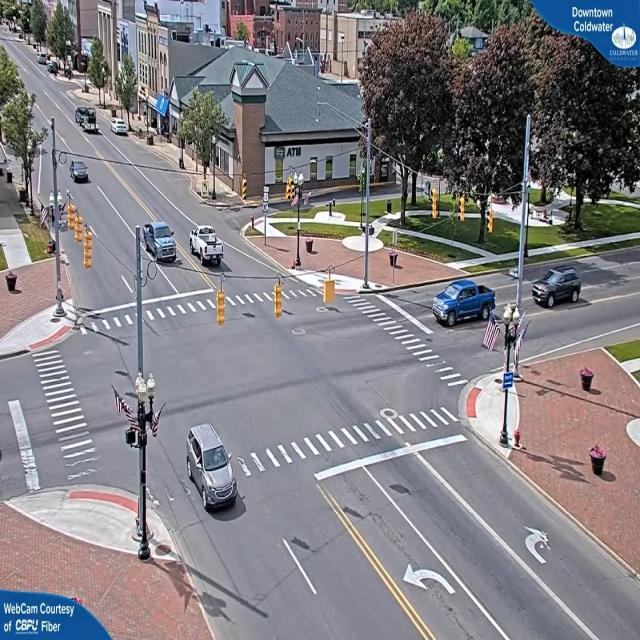car: (186, 429, 239, 514), (432, 278, 495, 326), (533, 266, 584, 308), (142, 222, 180, 265), (189, 227, 223, 262), (71, 160, 91, 183), (112, 120, 131, 138)
